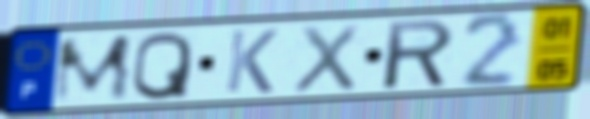2: (458, 10, 530, 93)
K: (222, 27, 282, 96)
M: (50, 31, 136, 106)
Q: (128, 28, 195, 103)
R: (382, 16, 457, 92)
X: (289, 22, 362, 96)
